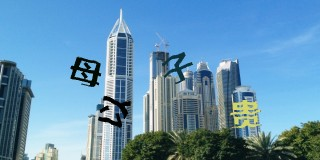以: (95, 94, 134, 128)
子: (160, 51, 194, 84)
母: (68, 55, 103, 89)
贵: (231, 99, 262, 131)
